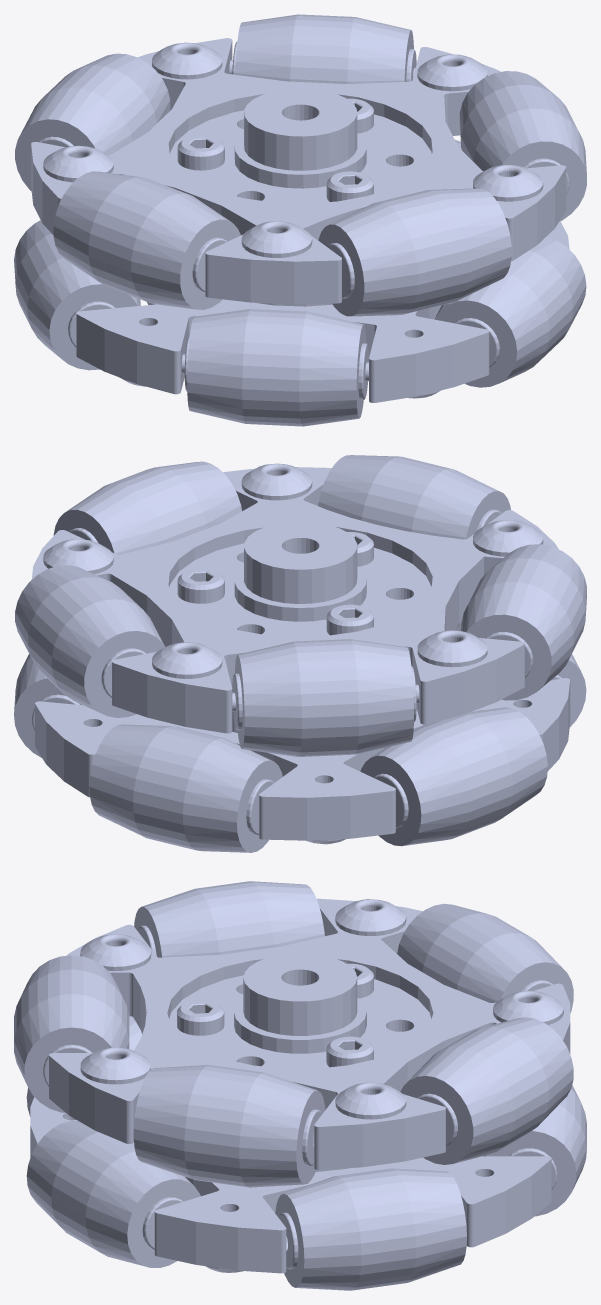
The model's file is omniwheel.dae.
3 views of the same model, one above another, from view 1: azimuth 30°, elevation 25°; view 2: azimuth 150°, elevation 25°; view 3: azimuth 270°, elevation 25° (orthographic).
Parts seen in each view (by area): view 1: node0; view 2: node0; view 3: node0.
Boxes of the visible parts, box(x1,y1,x2,y2) form: node0: box(14, 14, 586, 426); node0: box(14, 455, 586, 852); node0: box(14, 881, 586, 1290).
Bounding box in the file's own units: 0.0608 × 0.0603 × 0.0276.
